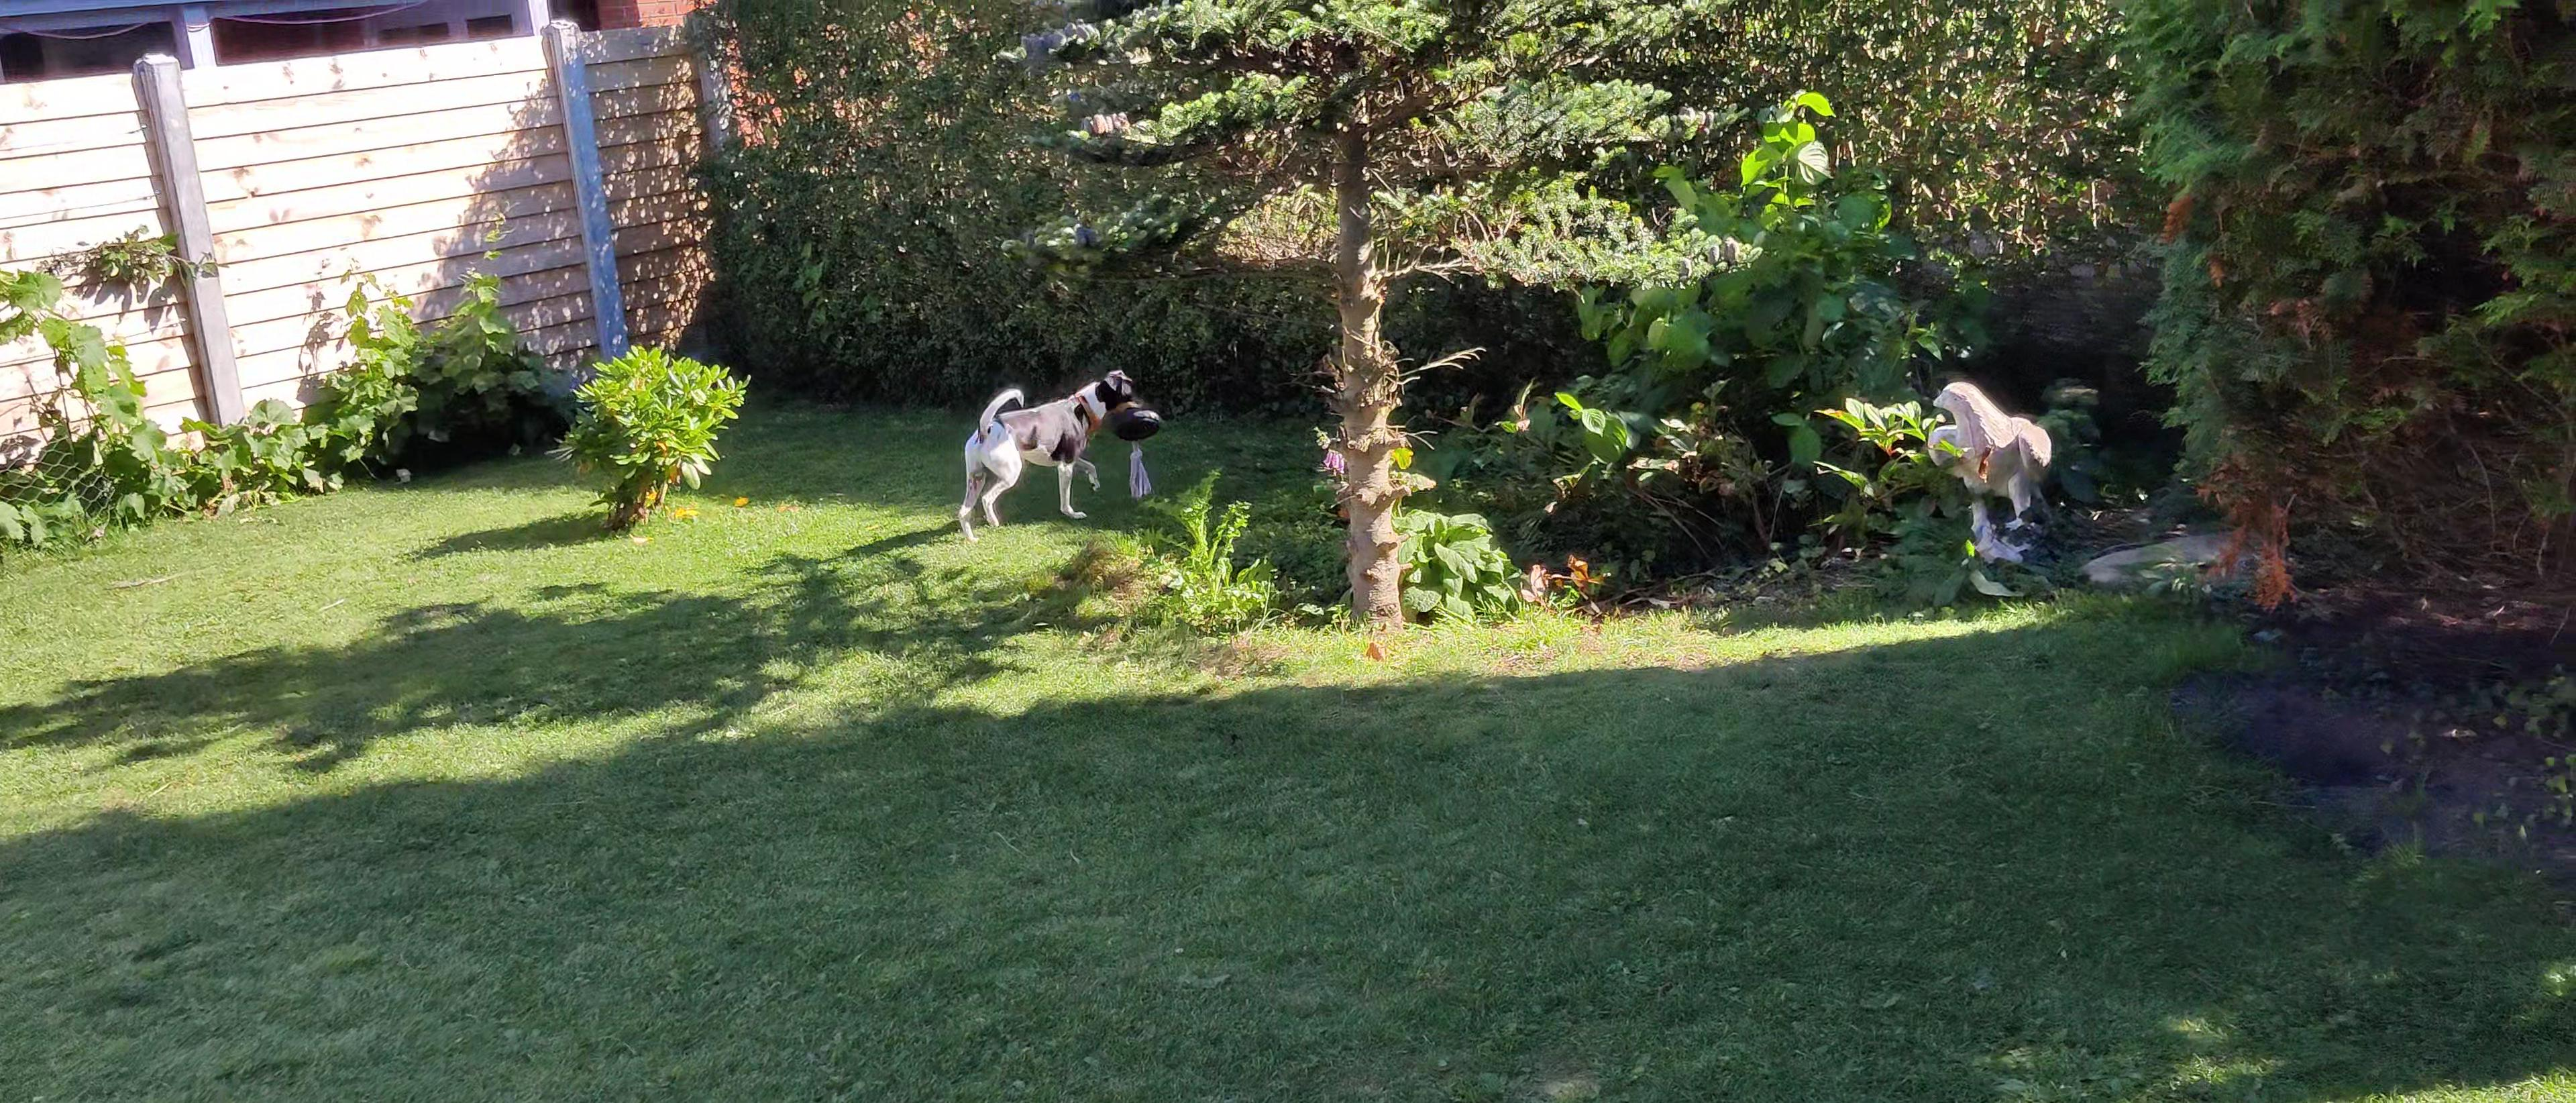Dog: (954, 368, 1150, 544)
